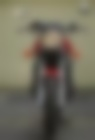Vehicle: (13, 4, 91, 138)
